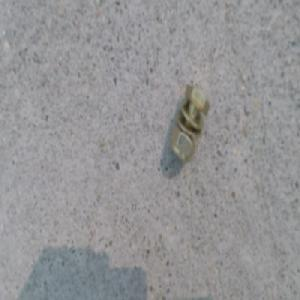BoltNutSet: (168, 86, 208, 164)
